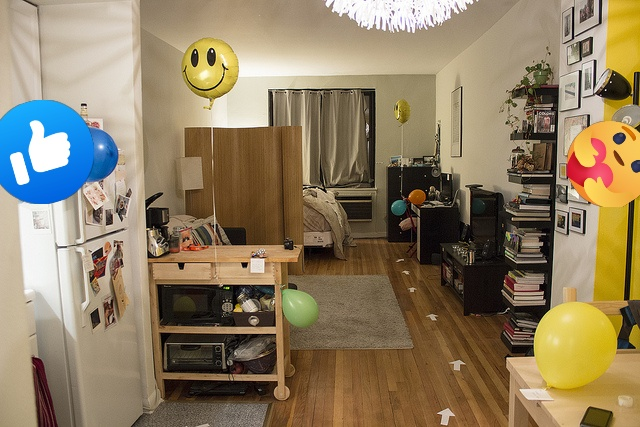care: (567, 121, 640, 207)
like: (0, 100, 94, 204)
